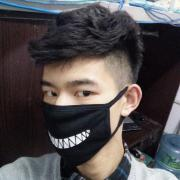OK: (42, 72, 129, 164)
